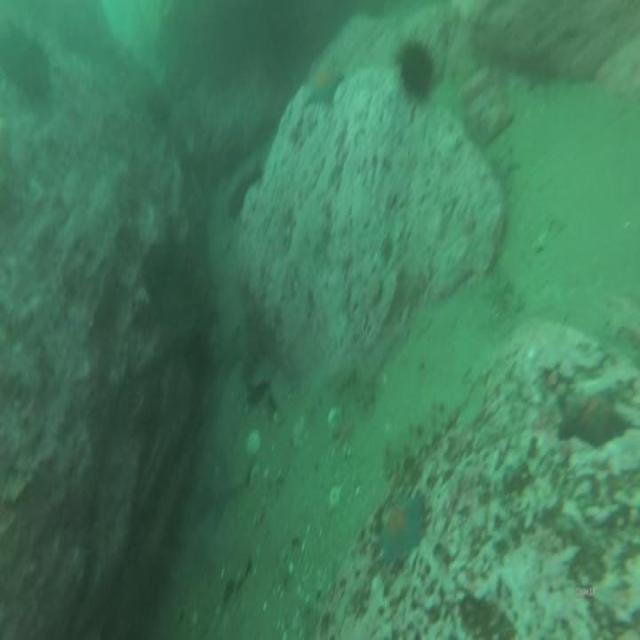echinus: (0, 27, 51, 101), (400, 44, 434, 98)
holothurian: (383, 409, 450, 474)
starfish: (557, 384, 633, 446), (379, 493, 422, 564), (202, 463, 236, 523), (306, 59, 341, 104), (487, 140, 518, 187)
